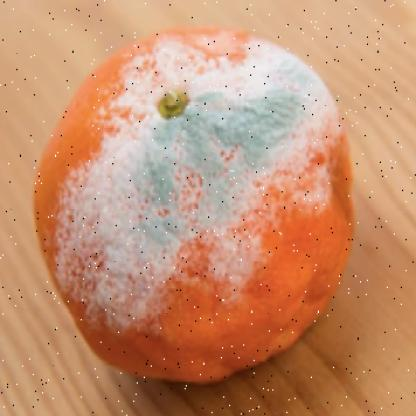rotten: (35, 29, 353, 383)
